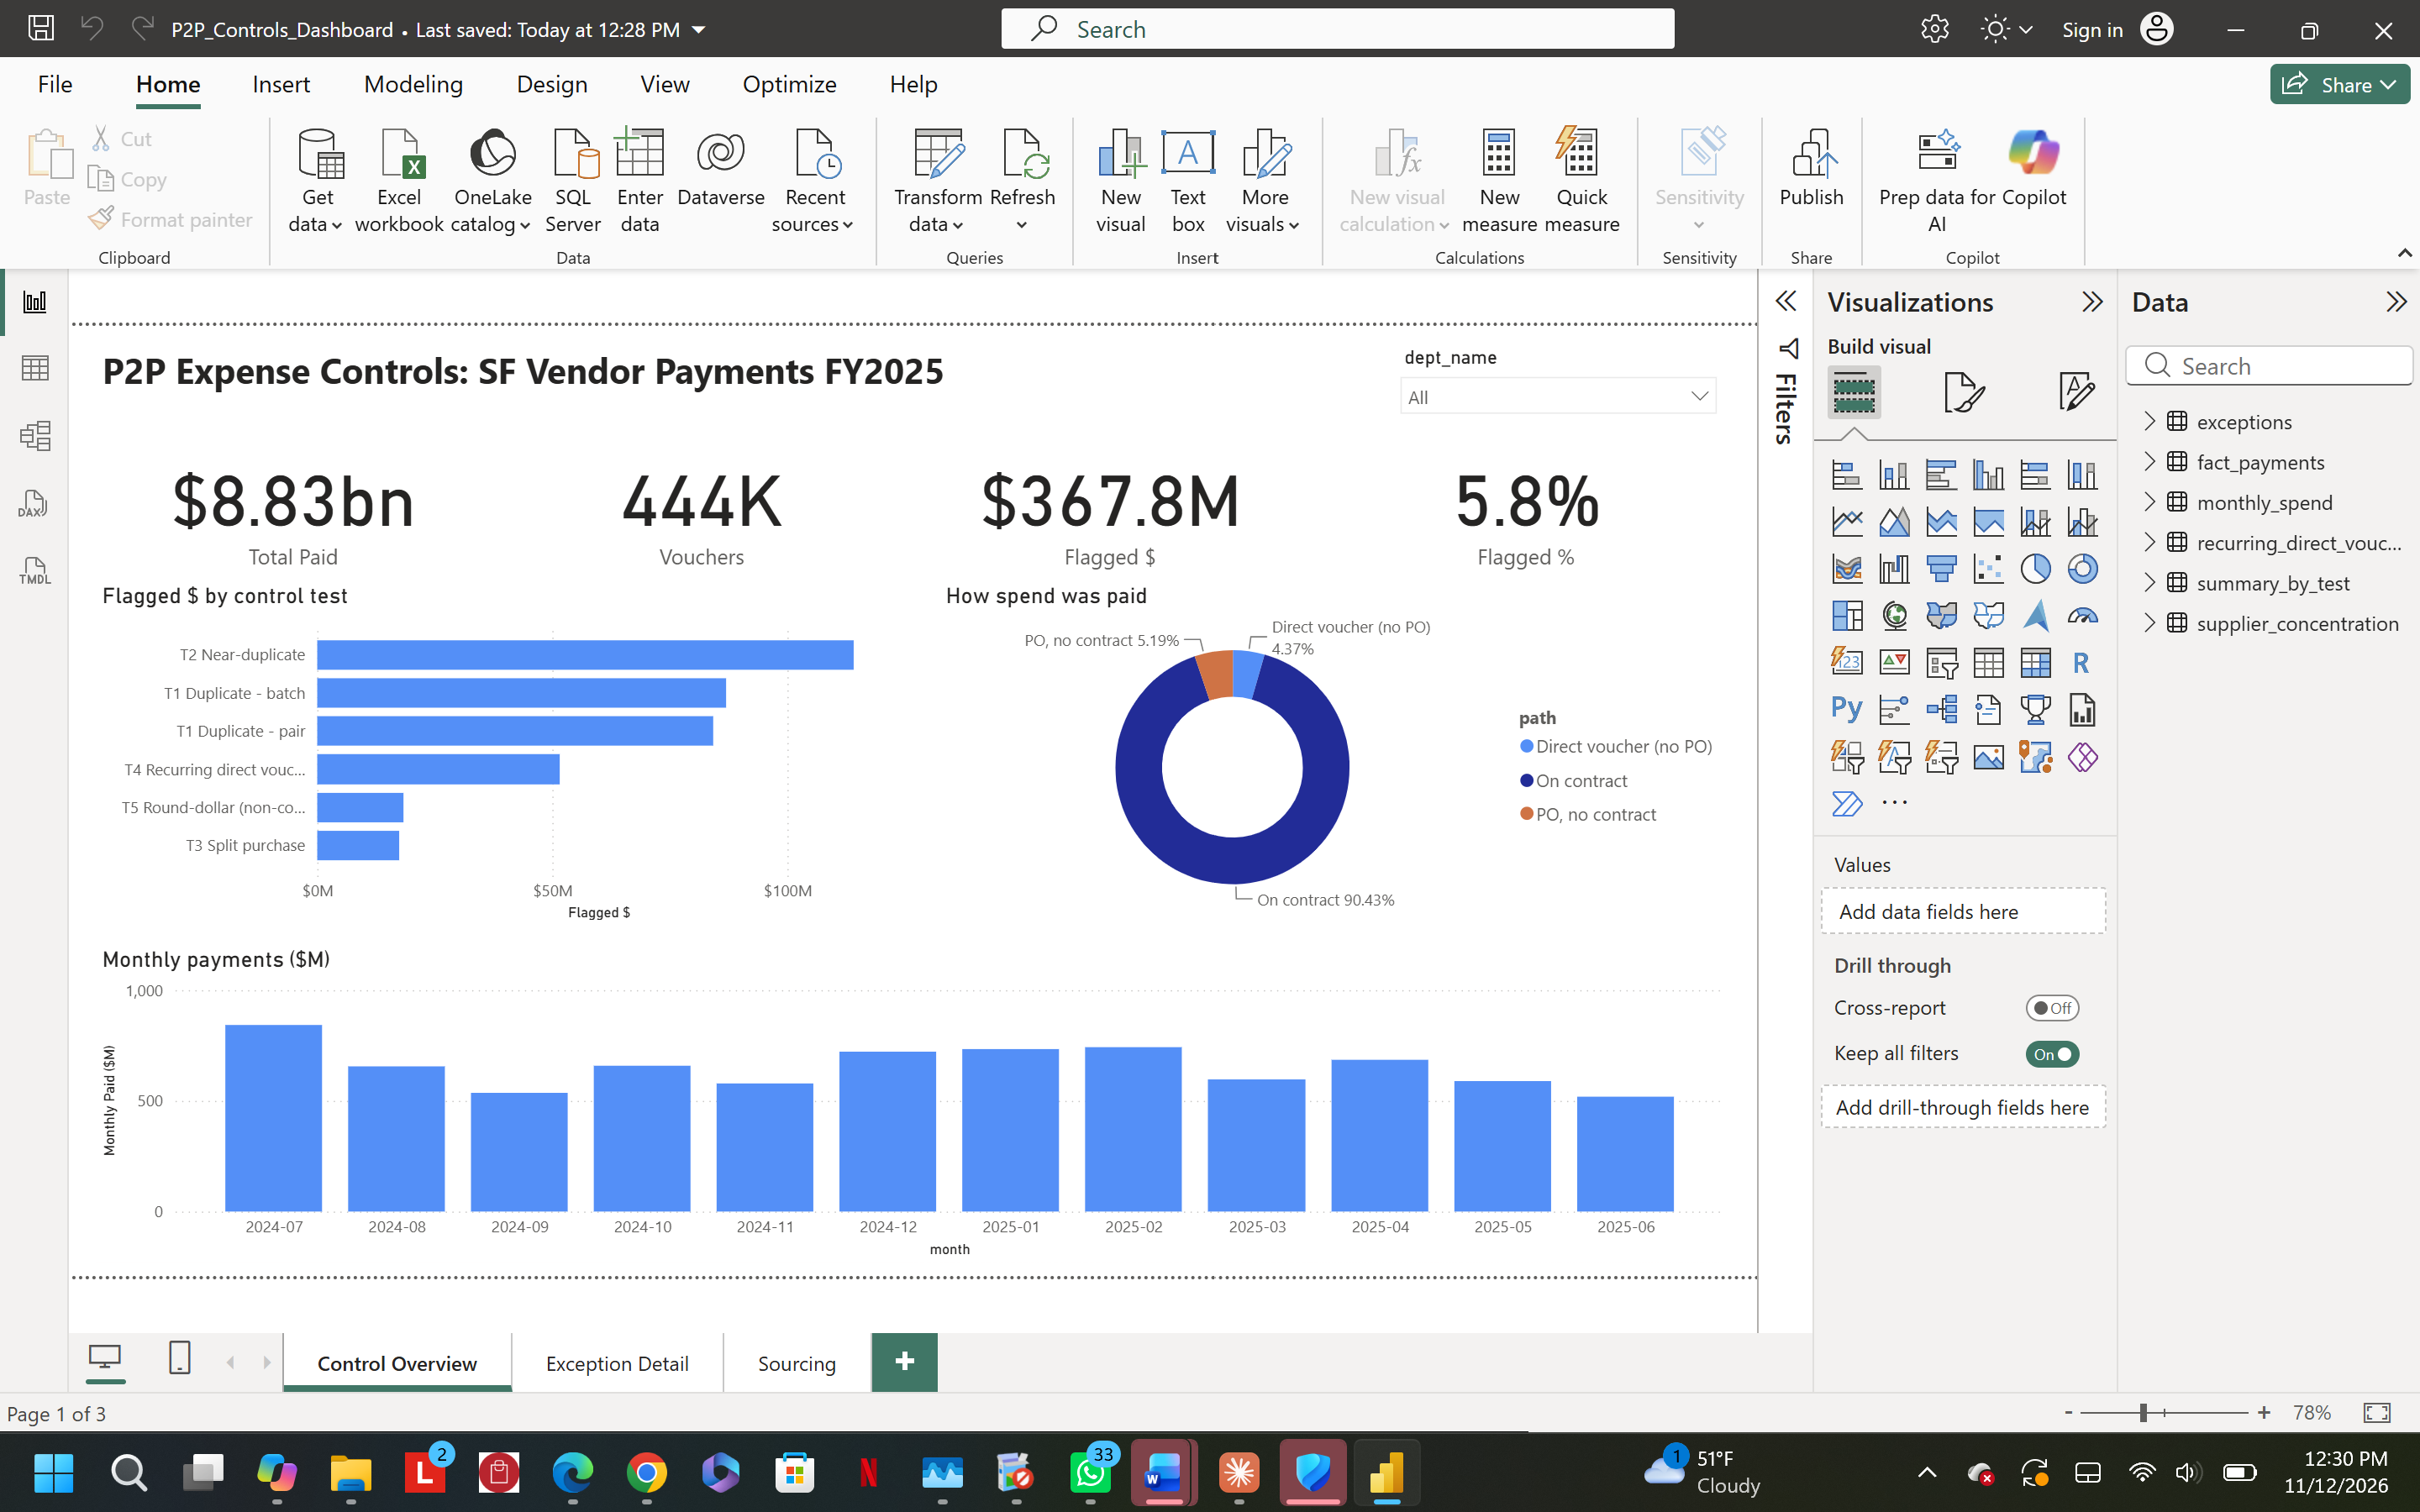

The page's visual inventory and layout, read from the dashboard file:
{"tool":"powerbi","page":{"name":"Control Overview","canvas":[1280,720],"ordinal":0},"visuals":[{"type":"textbox","box":[20,10,950,55],"z":0},{"type":"slicer","fields":{"Values":["fact_payments.dept_name"]},"box":[1000,10,260,60],"z":1000},{"type":"card","fields":{"Values":["fact_payments.Total Paid"]},"box":[20,80,300,112],"z":2000},{"type":"card","fields":{"Values":["fact_payments.Vouchers"]},"box":[330,80,300,112],"z":3000},{"type":"card","fields":{"Values":["fact_payments.Flagged $"]},"box":[640,80,300,112],"z":4000},{"type":"card","fields":{"Values":["fact_payments.Flagged %"]},"box":[950,80,310,112],"z":5000},{"type":"clusteredBarChart","title":"Flagged $ by control test","fields":{"Category":["summary_by_test.test"],"Y":["summary_by_test.Test Amount"]},"box":[20,195,620,260],"z":6000},{"type":"donutChart","title":"How spend was paid","fields":{"Category":["fact_payments.path"],"Y":["fact_payments.Total Paid"]},"box":[660,195,600,260],"z":7000},{"type":"clusteredColumnChart","title":"Monthly payments ($M)","fields":{"Category":["monthly_spend.month"],"Y":["monthly_spend.Monthly Paid ($M)"]},"box":[20,470,1240,240],"z":8000}]}

Visuals, with their boxes on the page's 1280x720 design canvas (x1, y1, x2, y2). These are canvas units, not pixel positions in the 2420x1512 screenshot, which may show the page scaled, cropped or inside an application window:
textbox: {"x1": 20, "y1": 10, "x2": 970, "y2": 65}
slicer - fact_payments.dept_name: {"x1": 1000, "y1": 10, "x2": 1260, "y2": 70}
card - fact_payments.Total Paid: {"x1": 20, "y1": 80, "x2": 320, "y2": 192}
card - fact_payments.Vouchers: {"x1": 330, "y1": 80, "x2": 630, "y2": 192}
card - fact_payments.Flagged $: {"x1": 640, "y1": 80, "x2": 940, "y2": 192}
card - fact_payments.Flagged %: {"x1": 950, "y1": 80, "x2": 1260, "y2": 192}
"Flagged $ by control test" clusteredBarChart: {"x1": 20, "y1": 195, "x2": 640, "y2": 455}
"How spend was paid" donutChart: {"x1": 660, "y1": 195, "x2": 1260, "y2": 455}
"Monthly payments ($M)" clusteredColumnChart: {"x1": 20, "y1": 470, "x2": 1260, "y2": 710}
